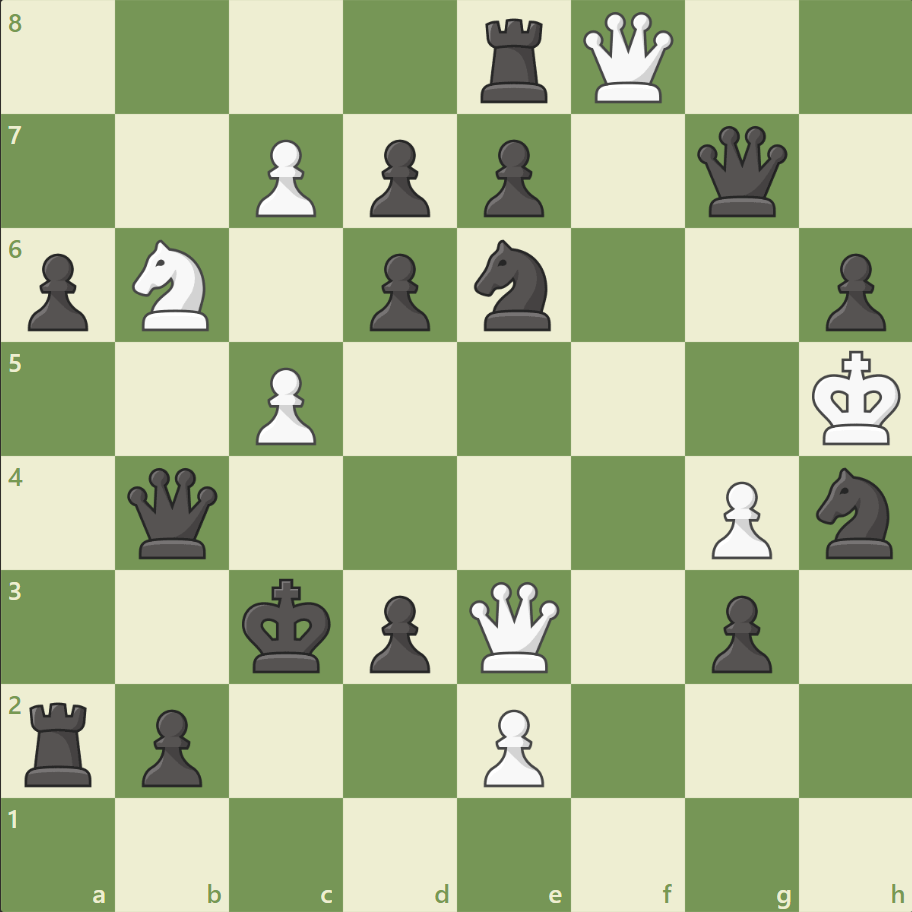K: (806, 344, 906, 452)
N: (124, 234, 222, 337)
P: (247, 132, 322, 223), (247, 359, 322, 450), (701, 473, 776, 564), (474, 700, 549, 791)
Q: (464, 576, 563, 676), (578, 9, 677, 108)
k: (238, 571, 338, 679)
n: (465, 234, 562, 337), (806, 461, 903, 564)
p: (474, 132, 549, 223), (20, 246, 95, 337), (701, 586, 776, 677), (133, 700, 208, 791), (361, 132, 435, 223), (361, 246, 435, 337), (815, 246, 889, 337), (361, 586, 435, 677)
q: (691, 122, 790, 222), (124, 463, 223, 562)
r: (473, 12, 556, 109), (19, 693, 102, 790)
